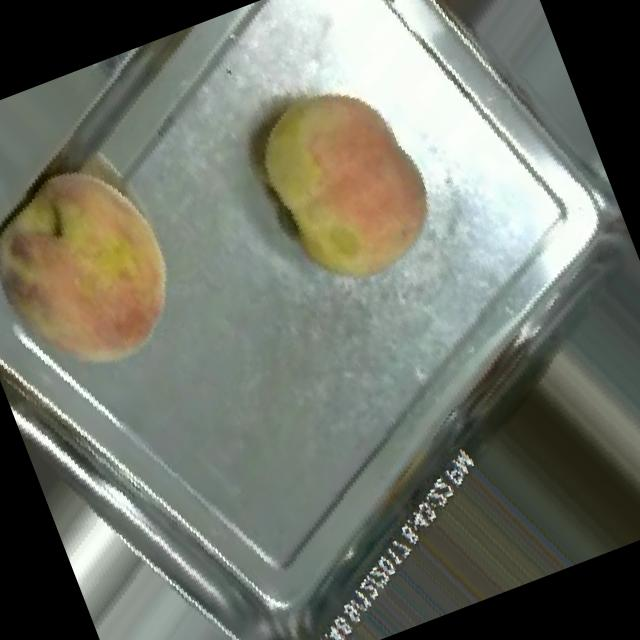Fruit: (202, 30, 492, 337), (0, 111, 235, 432), (358, 0, 544, 68)
